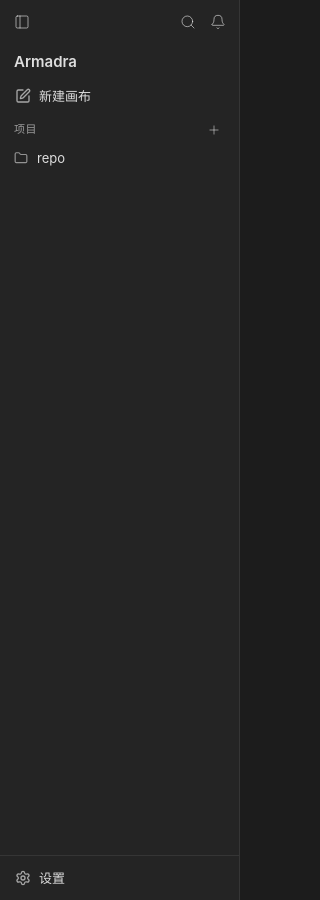
Test: LeftSidebar › 通知在「项目」的位置展开 Agent 面板，再按一次收回
The width and height of the screenshot is (320, 900).
Step 1. Click the button named "通知" → (218, 22), box [204,8,232,36]
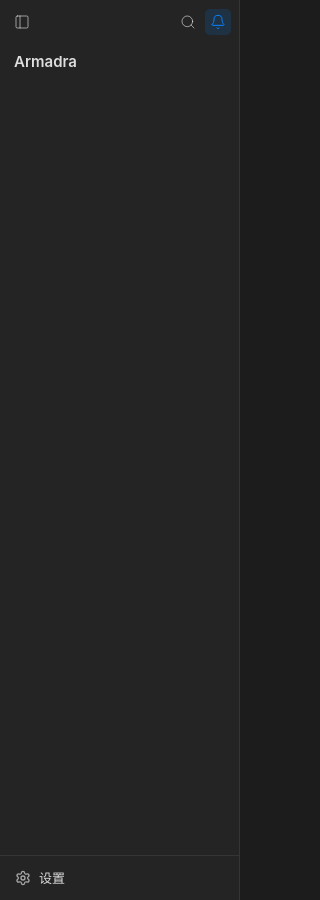
Result: the heading "项目" is gone
Step 2. Click the button named "通知" → (218, 22), box [204,8,232,36]
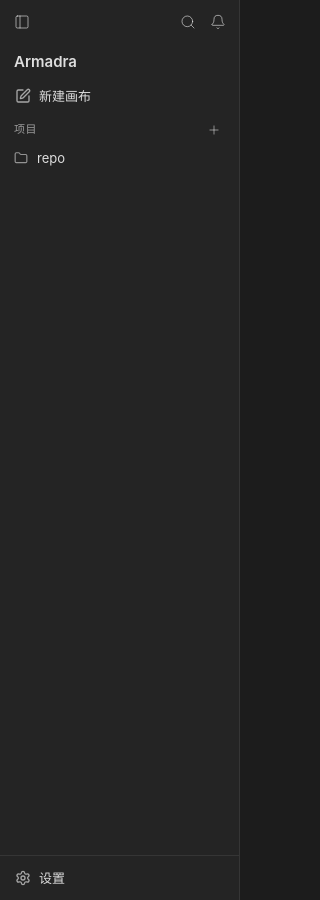
Result: the heading "项目" is shown at [14,122,37,136]
